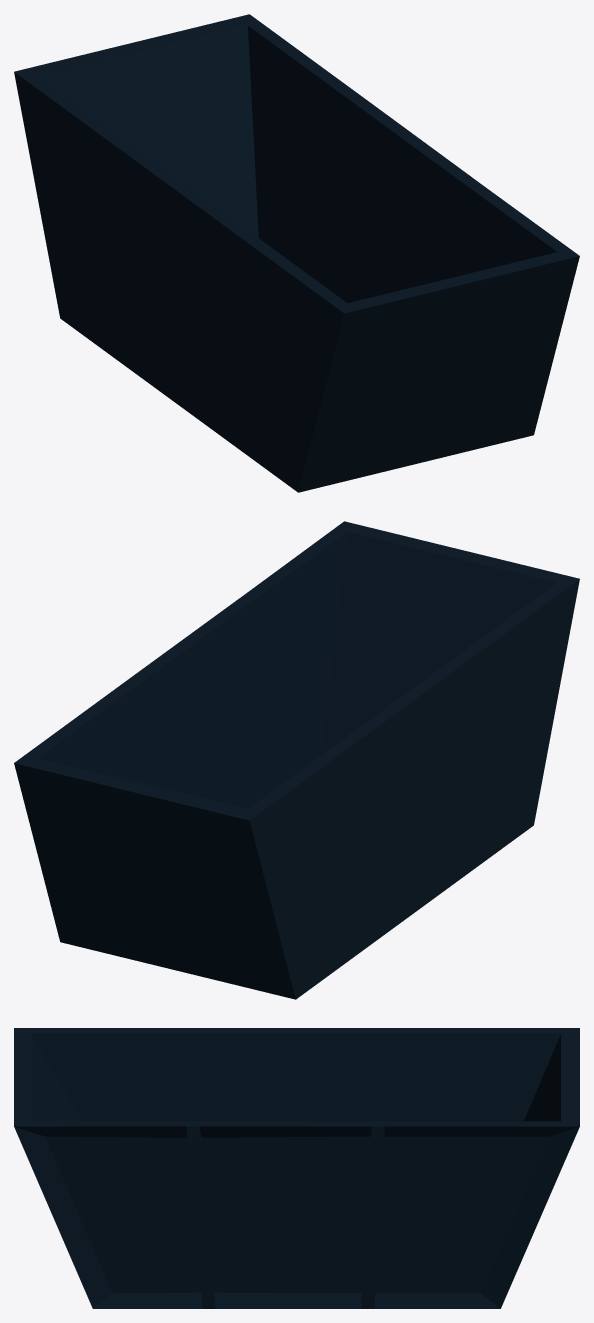
Rendered from PackageContainer.fbx.
3 renders of one model, top to bottom at view 1: azimuth 30°, elevation 25°; view 2: azimuth 150°, elevation 25°; view 3: azimuth 270°, elevation 25°, orthographic. The views are drawn at different scales.
Visible parts, largest first — view 1: Cube; view 2: Cube; view 3: Cube.
Part boxes in pixels (<box>): Cube: <box>14,14,579,492</box>; Cube: <box>14,521,579,999</box>; Cube: <box>14,1028,579,1308</box>.
Size of the model in its own units: 802 by 691 by 1942.
